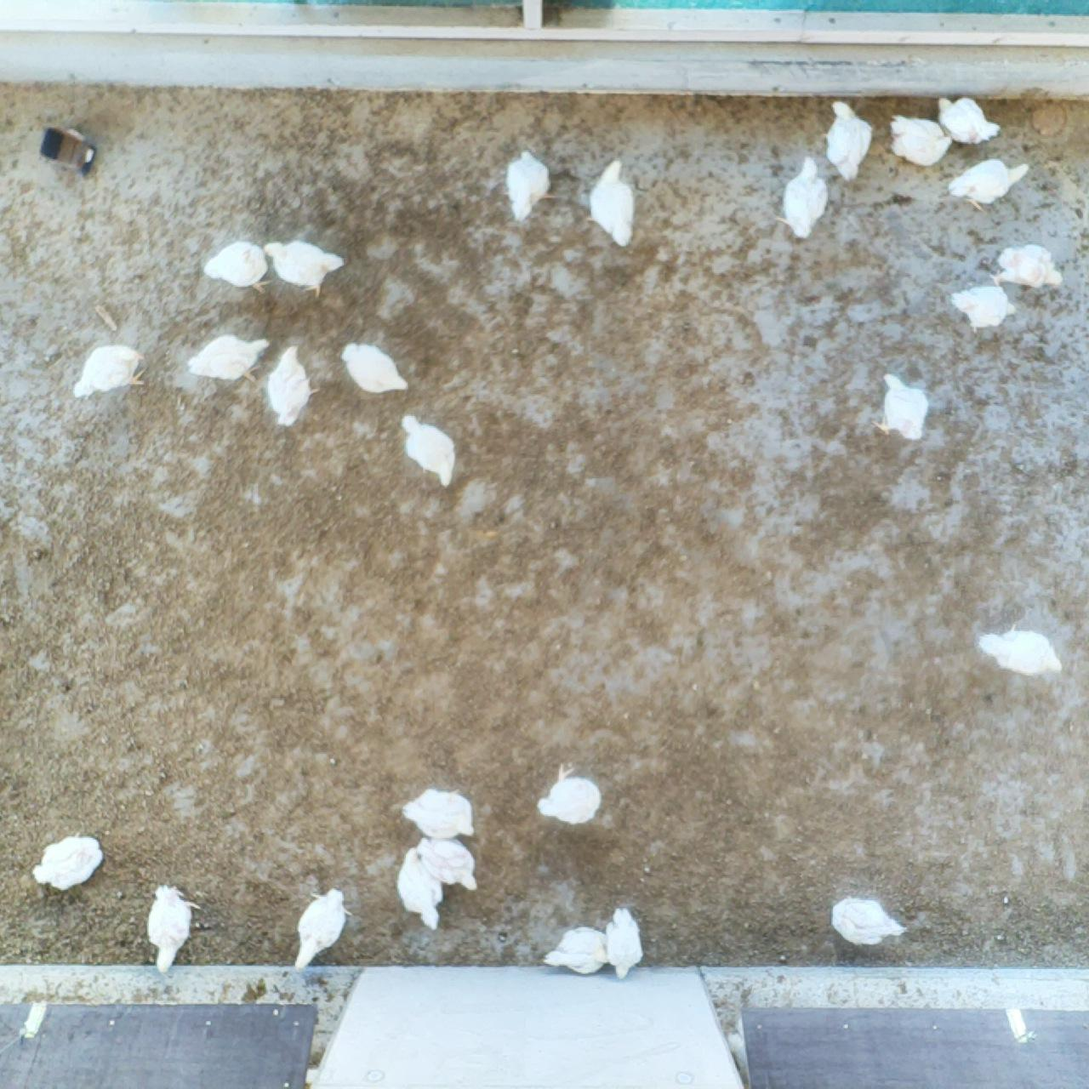chicken: (292, 884, 352, 972), (144, 882, 202, 972), (975, 617, 1064, 675), (828, 889, 906, 953), (264, 235, 346, 295), (772, 156, 831, 238), (532, 760, 603, 828), (71, 341, 148, 402), (33, 832, 107, 895), (185, 332, 273, 384), (402, 785, 481, 842), (267, 342, 318, 430), (400, 411, 458, 488), (396, 845, 447, 932), (949, 158, 1032, 211), (589, 158, 637, 249), (871, 371, 930, 444), (823, 98, 876, 178), (203, 237, 273, 296), (502, 146, 554, 225), (416, 833, 483, 894), (341, 340, 409, 394), (544, 923, 610, 978), (991, 242, 1066, 289), (937, 91, 1002, 145), (889, 112, 955, 165), (602, 906, 646, 982), (953, 284, 1018, 334)
